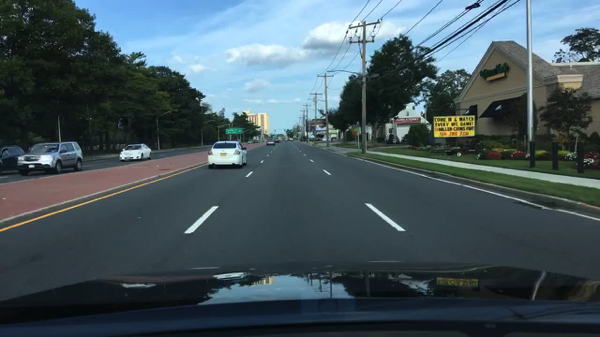car: (15, 140, 84, 176), (207, 140, 248, 169), (120, 142, 153, 163), (0, 146, 24, 173), (385, 134, 397, 145), (265, 138, 275, 145), (253, 139, 259, 144), (290, 138, 294, 142), (274, 139, 279, 142), (278, 138, 283, 141), (247, 140, 252, 143), (285, 139, 288, 142)
traffic sign: (224, 128, 243, 134)
